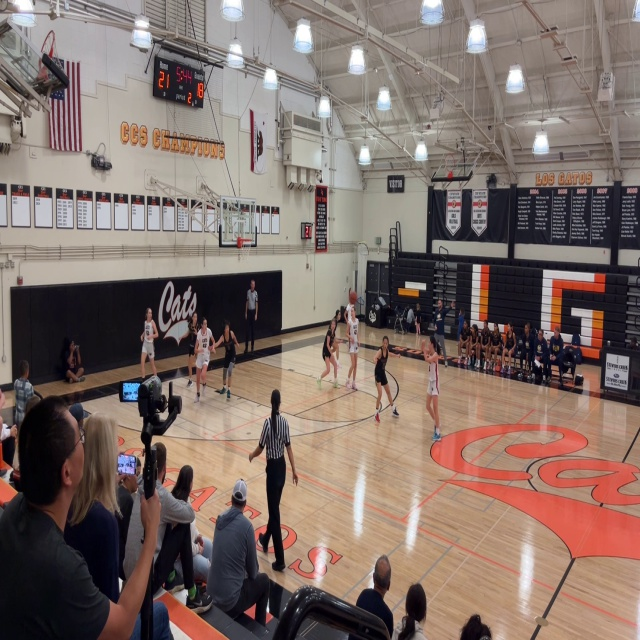Basketball: (349, 291, 357, 303)
